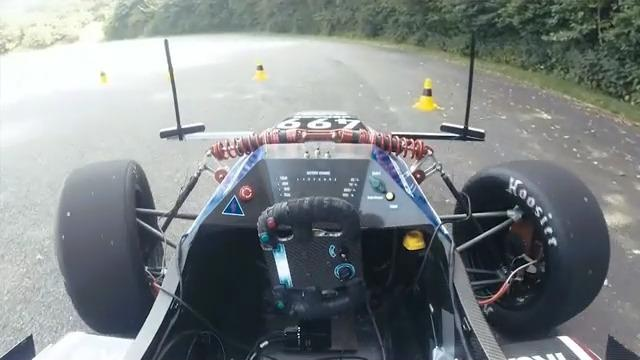yellow_cone: (411, 76, 442, 116), (251, 57, 270, 83)
